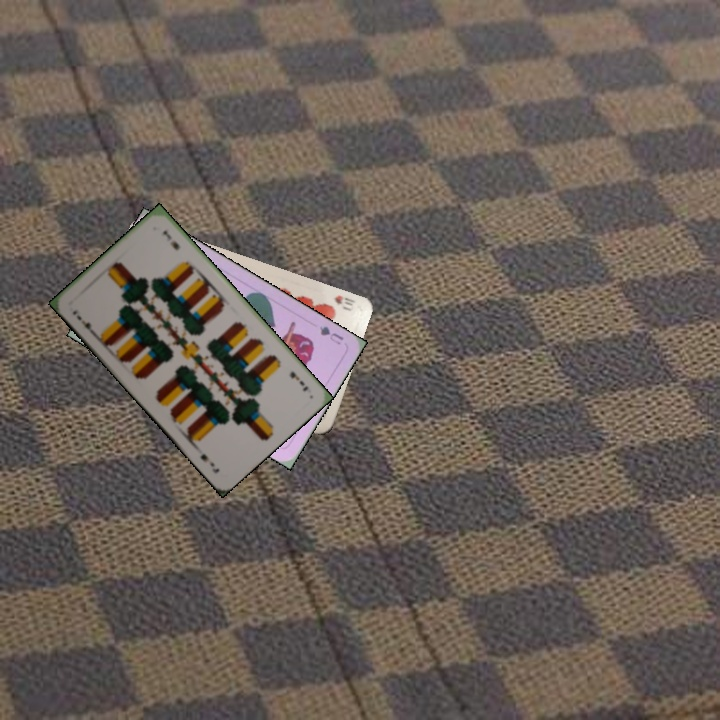E7: (68, 305, 98, 337), (286, 367, 311, 394)
GU: (315, 322, 346, 347)
H10: (330, 291, 358, 314)
